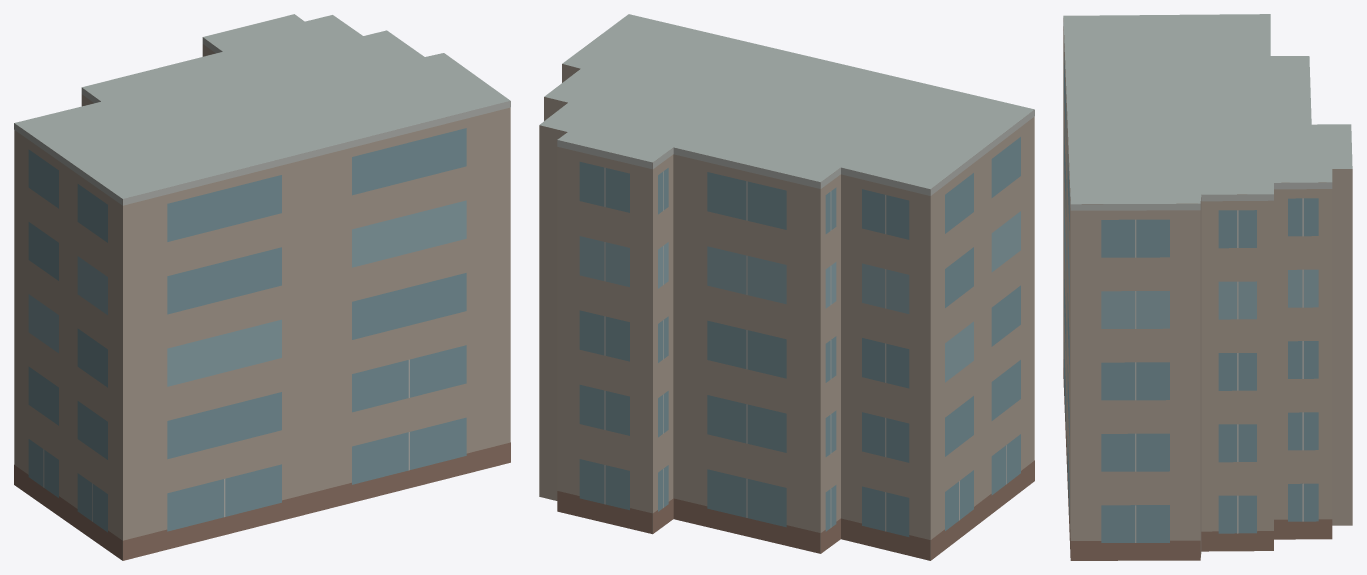
The model's file is survey-upis-32705520.glb.
3 views of the same model, side by side, from view 1: azimuth 30°, elevation 25°; view 2: azimuth 150°, elevation 25°; view 3: azimuth 270°, elevation 25° (orthographic). The views are drawn at different scales.
Visible parts, largest first — view 1: survey-upis-32705520.tmp; view 2: survey-upis-32705520.tmp; view 3: survey-upis-32705520.tmp.
Boxes of the visible parts, left/top/right/bottom form: survey-upis-32705520.tmp: left=14, top=14, right=510, bottom=560; survey-upis-32705520.tmp: left=539, top=14, right=1034, bottom=560; survey-upis-32705520.tmp: left=1063, top=14, right=1352, bottom=560.
Size of the model in its own units: 15.1 by 13.2 by 9.71.
